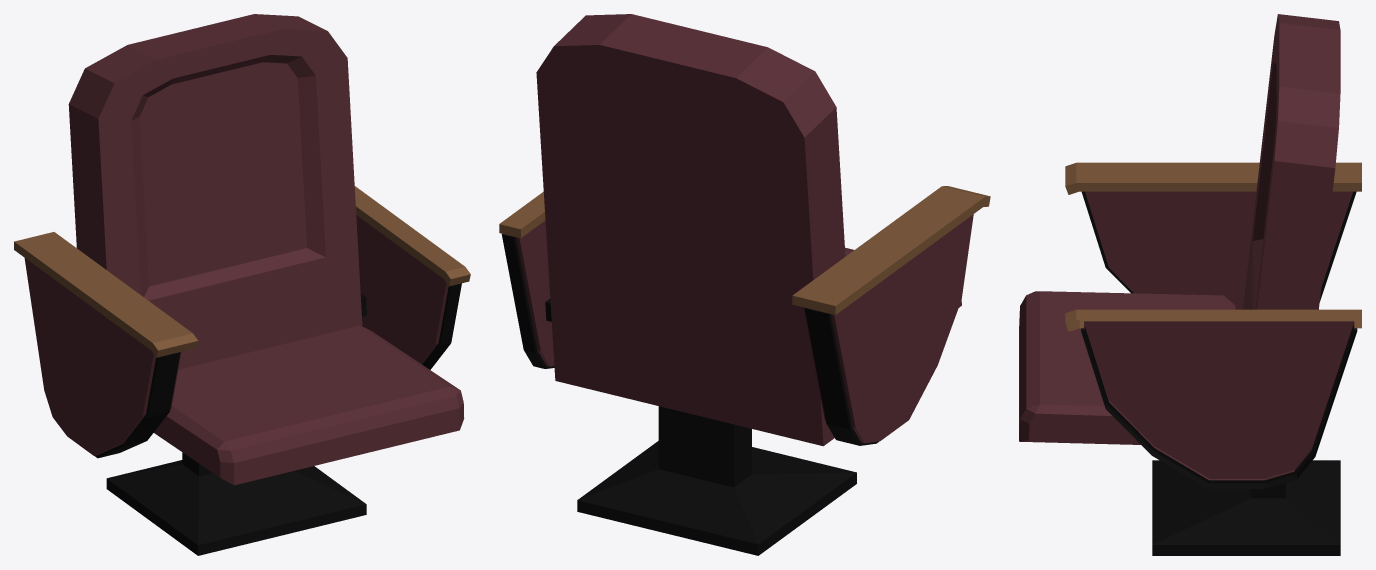
The model's file is Int_CinemaChair01_2.fbx.
3 renders of one model, left to right at view 1: azimuth 30°, elevation 25°; view 2: azimuth 150°, elevation 25°; view 3: azimuth 270°, elevation 25°, orthographic. The views are drawn at different scales.
Parts seen in each view (by area): view 1: Int_CinemaChair01_2; view 2: Int_CinemaChair01_2; view 3: Int_CinemaChair01_2.
Part boxes in pixels (left/top/right/bottom): Int_CinemaChair01_2: left=14, top=14, right=470, bottom=555; Int_CinemaChair01_2: left=499, top=14, right=990, bottom=555; Int_CinemaChair01_2: left=1019, top=14, right=1361, bottom=555.
Size of what is drawn, in the model's own units: 106 by 98.23 by 145.
